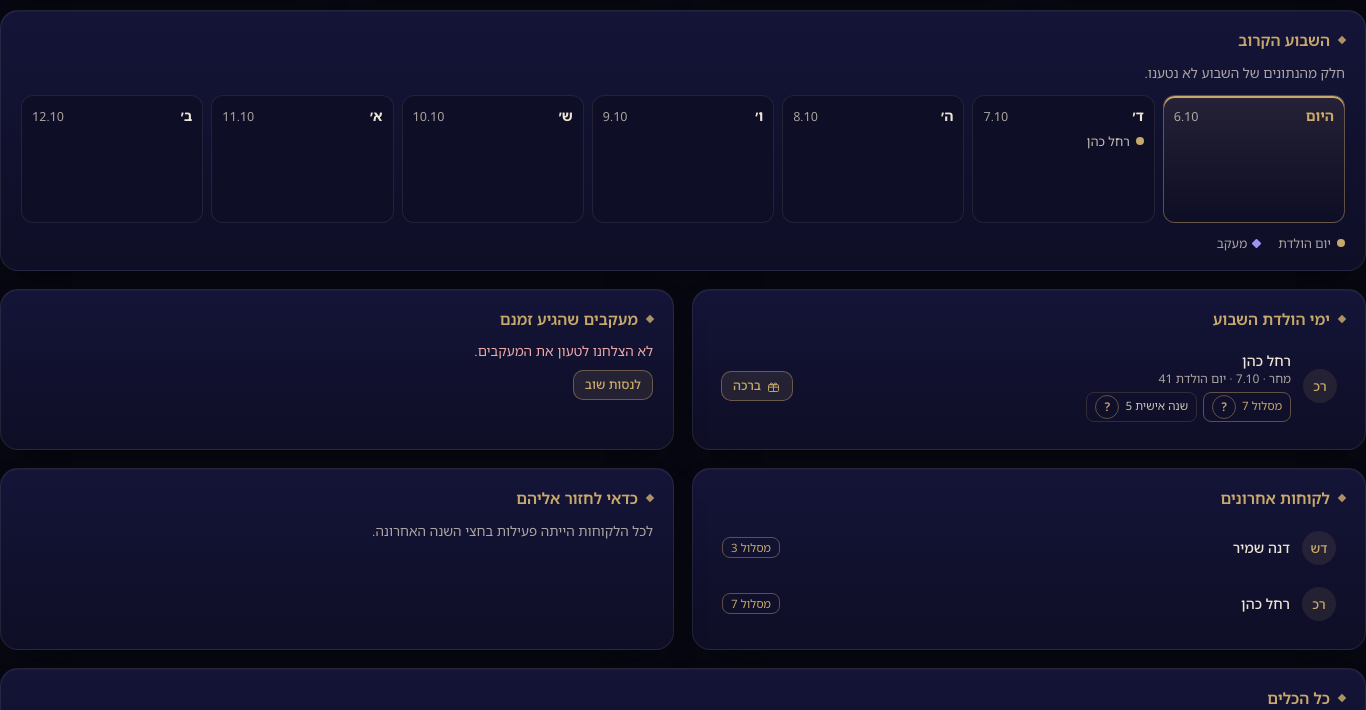
Test case: Today › bringing clients back › marking a follow-up done › offers to try again when the follow-ups do not load
(page scrolled)
Expected: the message reads "לא הצלחנו לטעון את המעקבים.", [474,342,653,360]
What coordinates should you click on to do the following:
click the button "לנסות שוב"
I would click on:
 (613, 385)
Its box is [573,370,653,400].
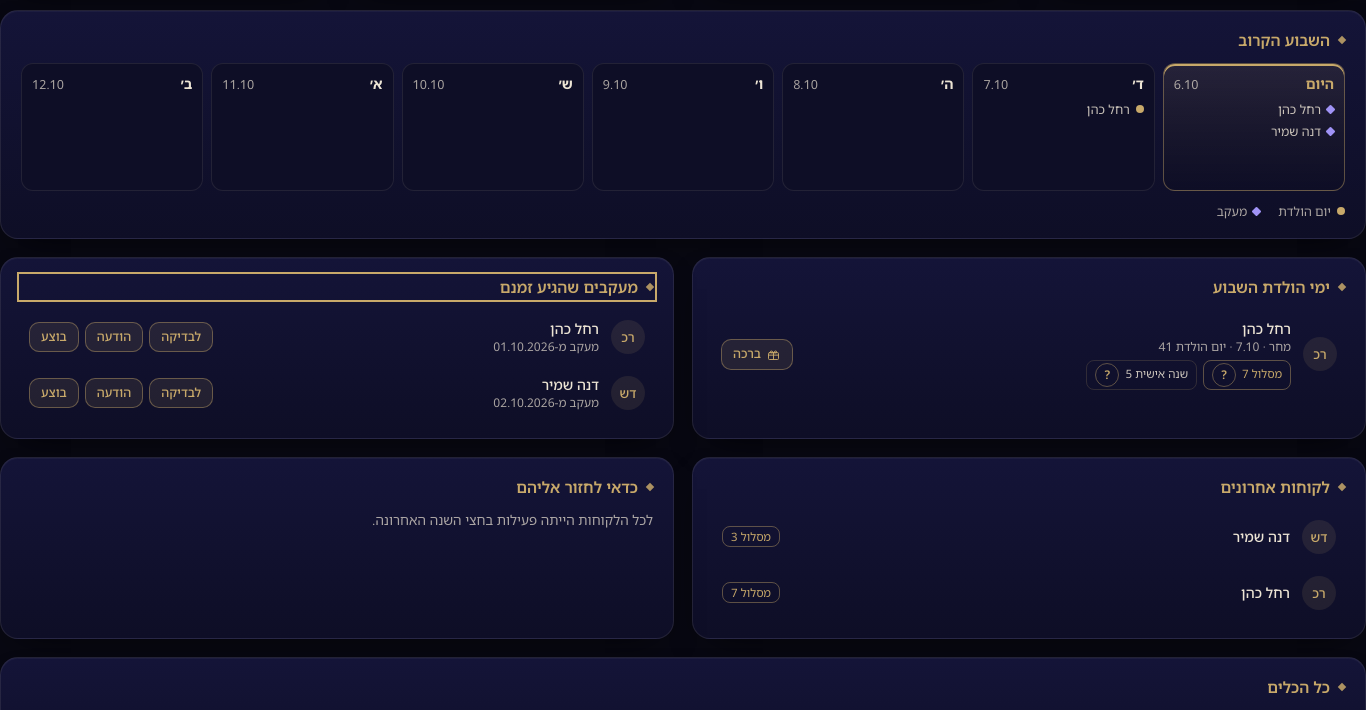
Expected: the button named "בוצע — המעקב של רחל כהן" is shown, [29,322,79,352]
